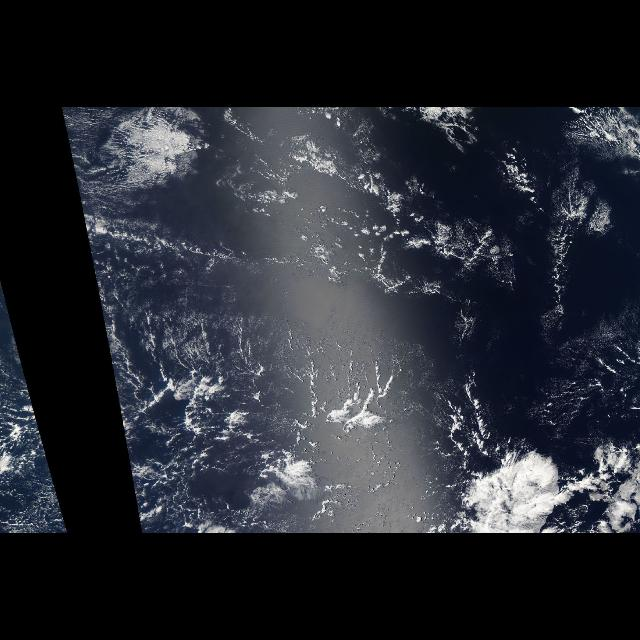Gravel: (125, 435, 258, 533), (15, 435, 71, 533)
Sugar: (69, 109, 388, 393), (525, 213, 639, 444)
